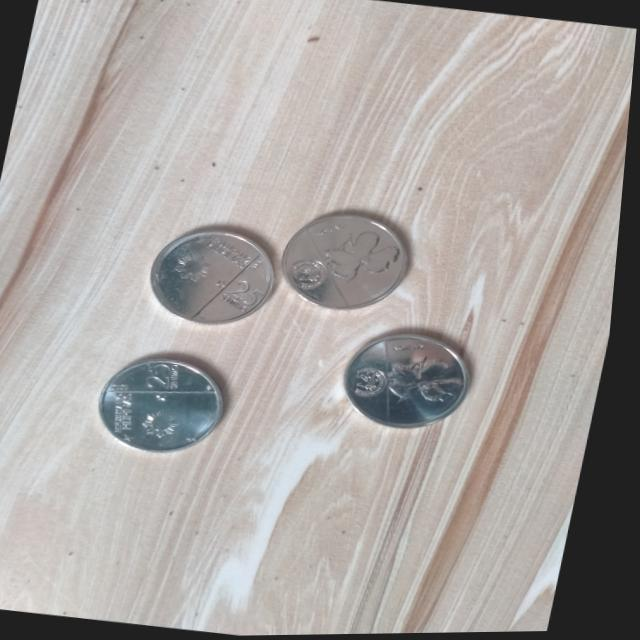25Cent_New_Back: (283, 217, 415, 305)
25Cent_New_Front: (159, 224, 284, 316)
